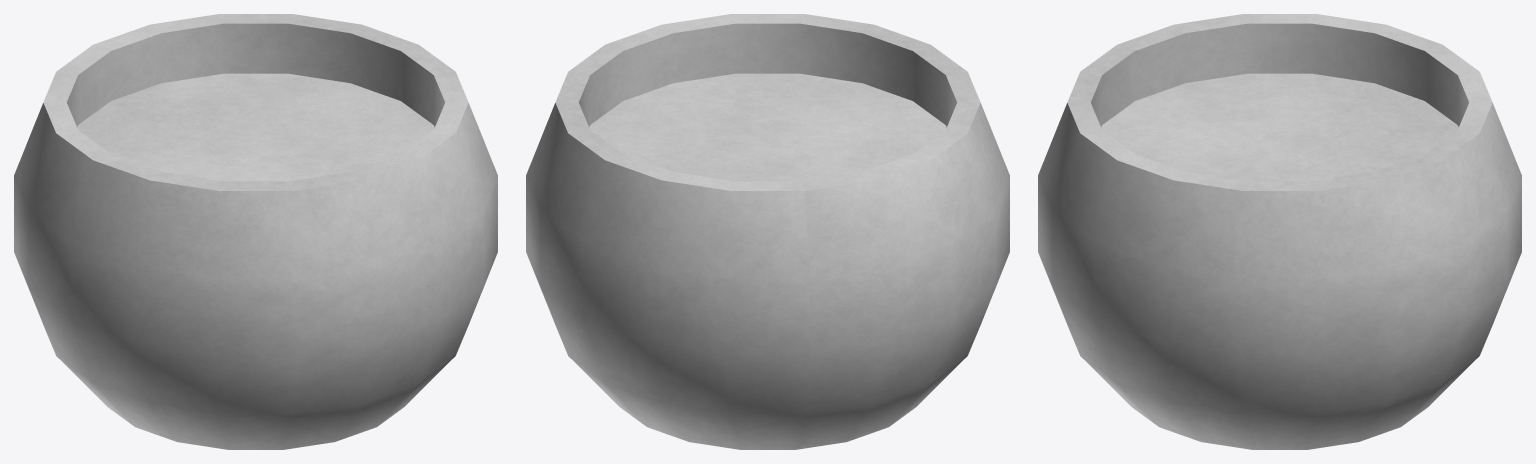
Rendered from SM_Pot_Plante.FBX.
The picture shows the model from 3 angles, left to right: view 1: azimuth 30°, elevation 25°; view 2: azimuth 150°, elevation 25°; view 3: azimuth 270°, elevation 25°; orthographic projection.
Parts seen in each view (by area): view 1: SM_Pot_Plante; view 2: SM_Pot_Plante; view 3: SM_Pot_Plante.
Boxes of the visible parts, left/top/right/bottom form: SM_Pot_Plante: left=14, top=14, right=497, bottom=449; SM_Pot_Plante: left=526, top=14, right=1009, bottom=449; SM_Pot_Plante: left=1038, top=14, right=1521, bottom=449.
Size of what is drawn, in the model's own units: 46.64 by 33.47 by 47.35.
Materials: 1 (1 with a texture image).
